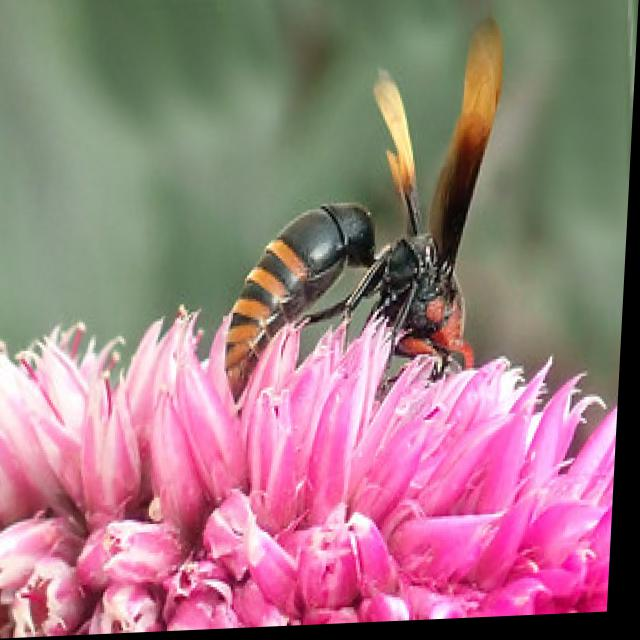Guepe: (204, 29, 530, 439)
